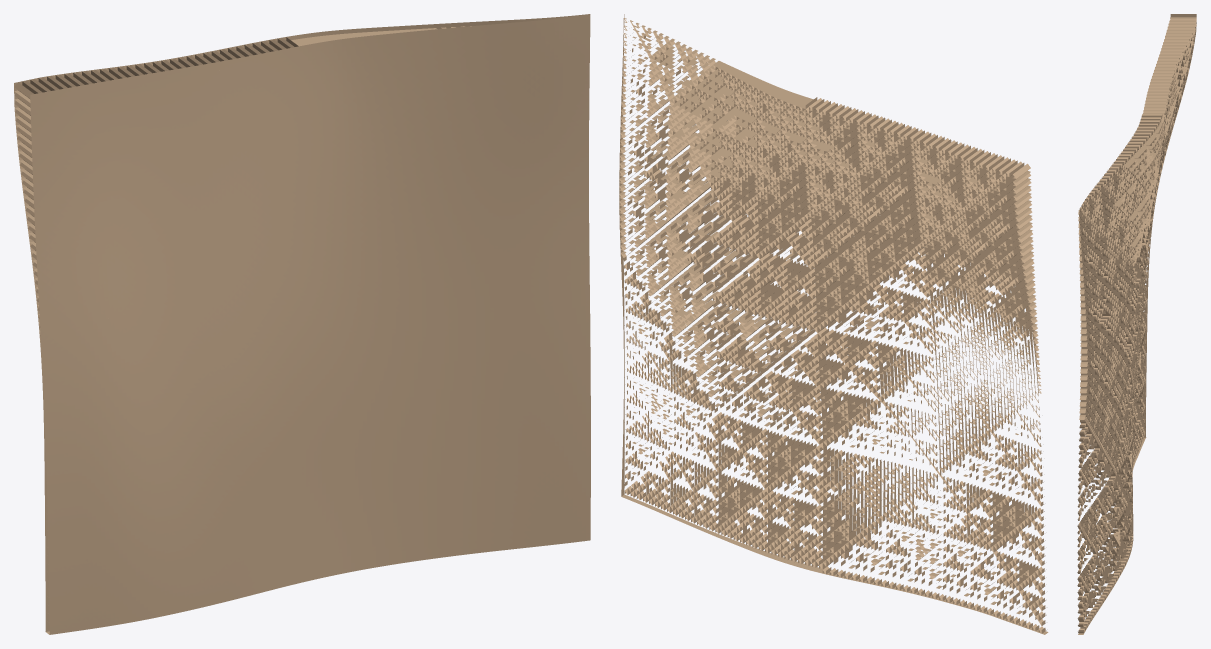
The picture shows the model from 3 angles, left to right: view 1: azimuth 30°, elevation 25°; view 2: azimuth 150°, elevation 25°; view 3: azimuth 270°, elevation 25°; orthographic projection. The views are drawn at different scales.
Visible parts, largest first — view 1: world; view 2: world; view 3: world.
Part boxes in pixels (x1,y1,x2,y2): world: (14, 14, 590, 634); world: (619, 14, 1048, 634); world: (1077, 14, 1196, 634).
Bounding box in the file's own units: 12800 × 12800 × 3277.
